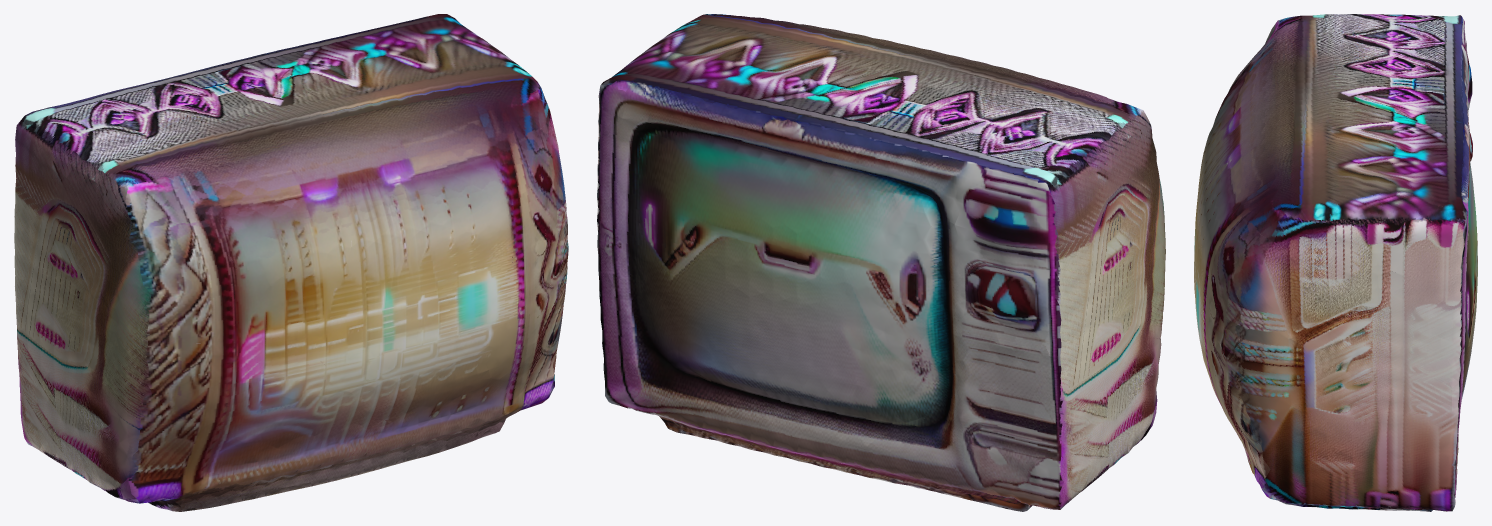
The picture shows the model from 3 angles, left to right: view 1: azimuth 30°, elevation 25°; view 2: azimuth 150°, elevation 25°; view 3: azimuth 270°, elevation 25°; orthographic projection. The views are drawn at different scales.
Visible parts, largest first — view 1: world; view 2: world; view 3: world.
Part boxes in pixels (box(x1,y1,x2,y2)): world: box(14, 14, 568, 511); world: box(597, 14, 1165, 511); world: box(1194, 14, 1477, 511).
Bounding box in the file's own units: 0.8657 × 0.646 × 0.4966.
1 material, 1 textured.
